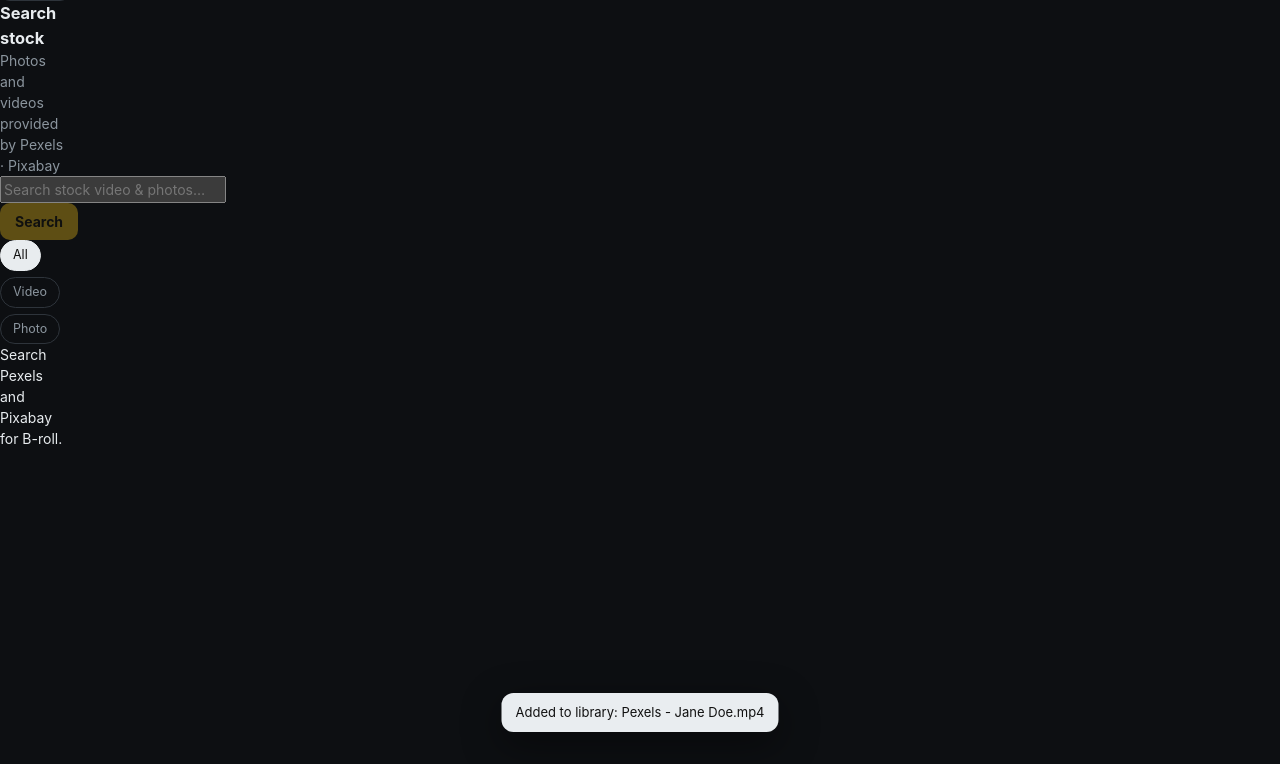
Scenario: StockPanel: Add to library › opens a preview on click and can add from there too
Type "garden" into the field with placeholder "Search stock video & photos…".
click(113, 190); type("garden")  # box x1=0 y1=176 x2=226 y2=203
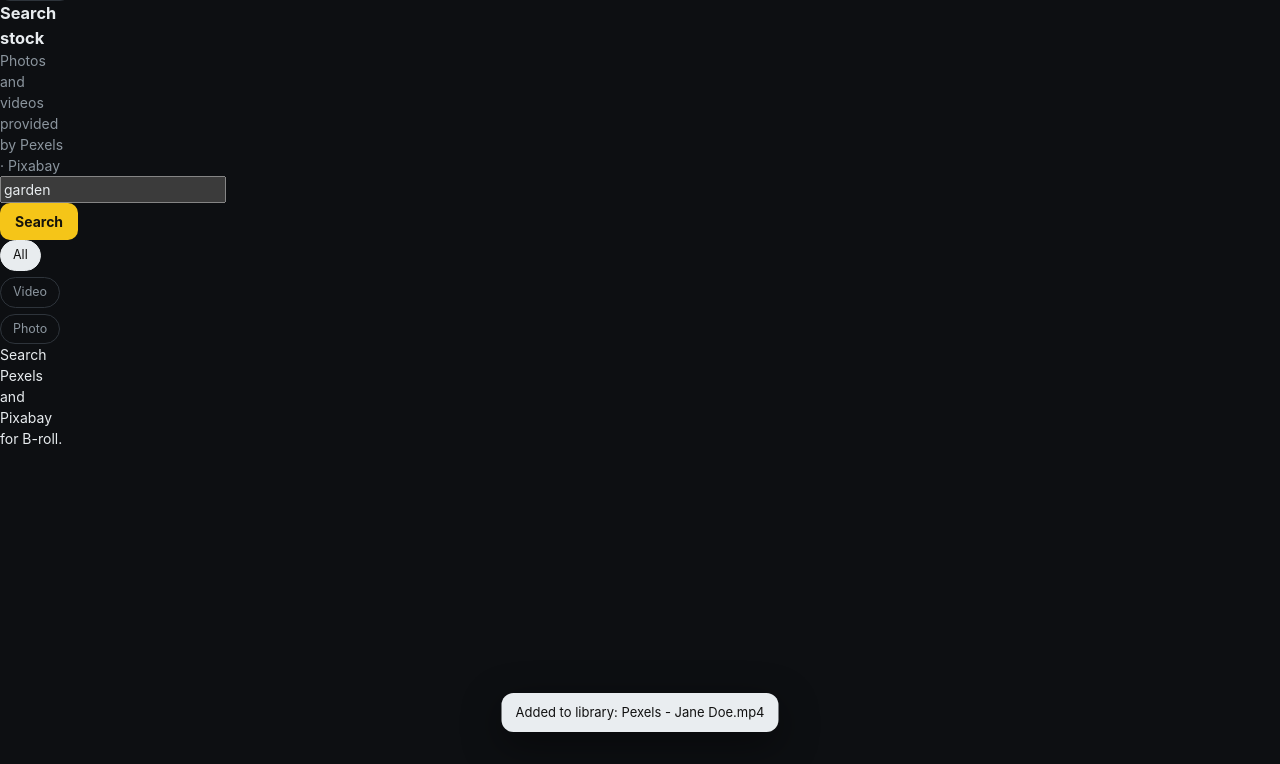
Click the button "Search".
click(39, 222)  # box x1=0 y1=203 x2=78 y2=240
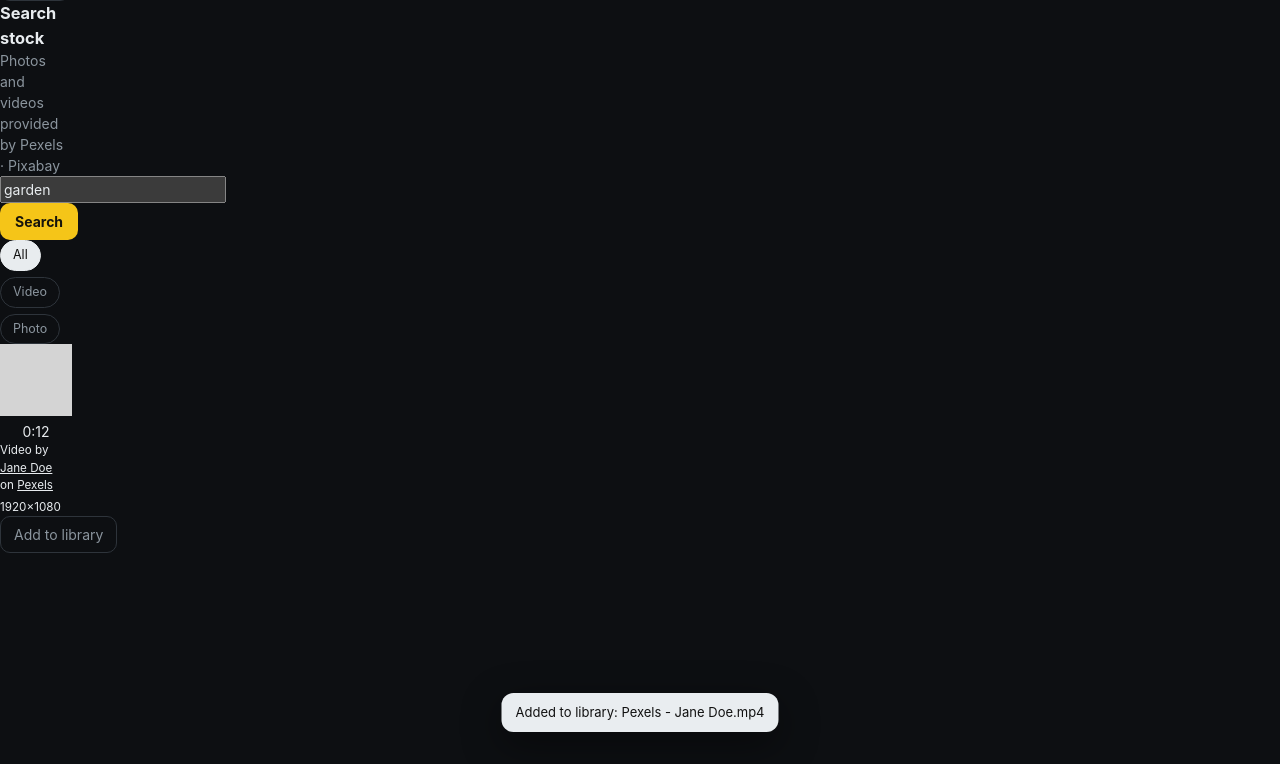
expect the link "Jane Doe" is shown: met, box x1=0 y1=461 x2=52 y2=475
Click the button named "Preview by Jane Doe".
click(36, 393)  # box x1=0 y1=344 x2=72 y2=442
(page scrolled)
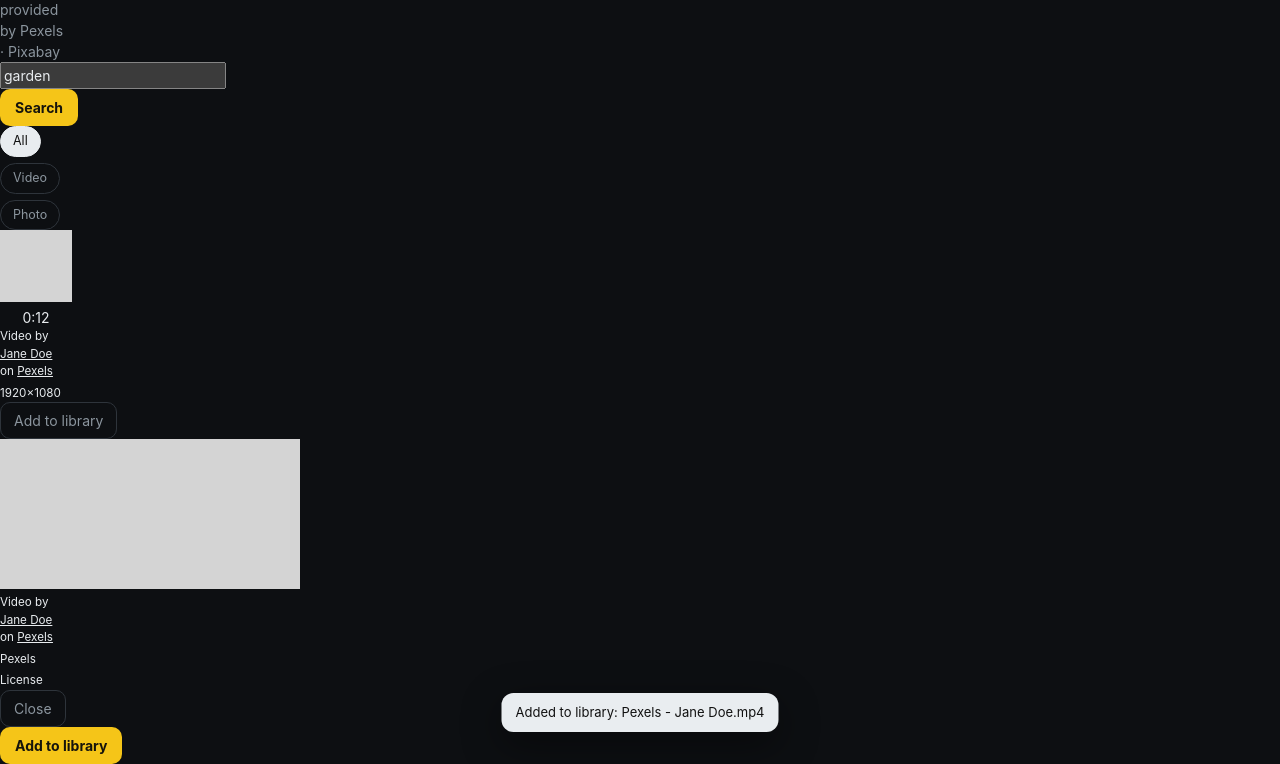
expect the 2nd link "Jane Doe" is shown: met, box x1=0 y1=613 x2=52 y2=627
Click the button "Add to library" below "Pexels License".
click(61, 745)  # box x1=0 y1=727 x2=122 y2=763
(page scrolled)
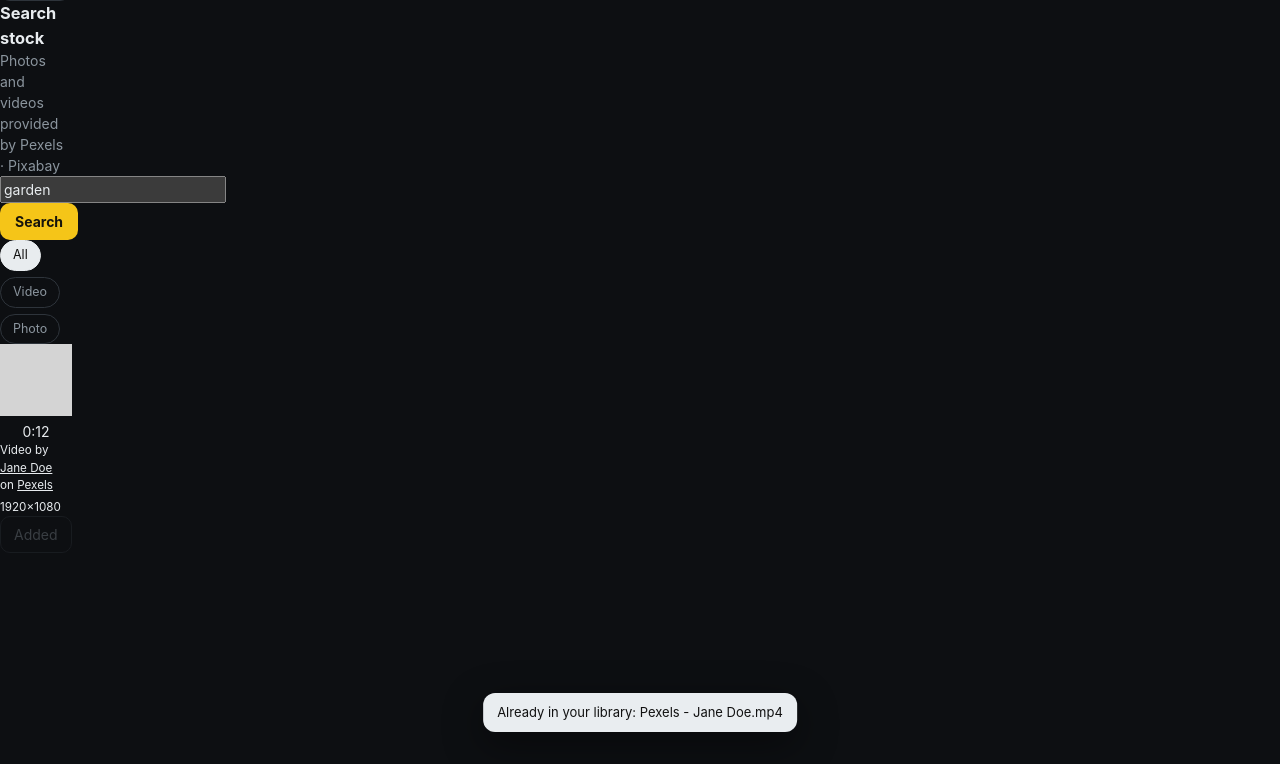
expect the message reads "Already in your library: Pexels - Jane Doe.mp4": met, box x1=497 y1=704 x2=783 y2=720
